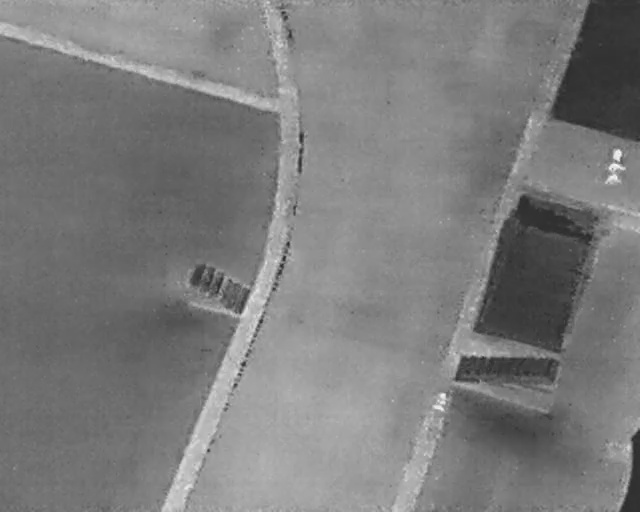Person: (427, 389, 450, 418), (602, 163, 626, 187), (611, 145, 623, 166)
